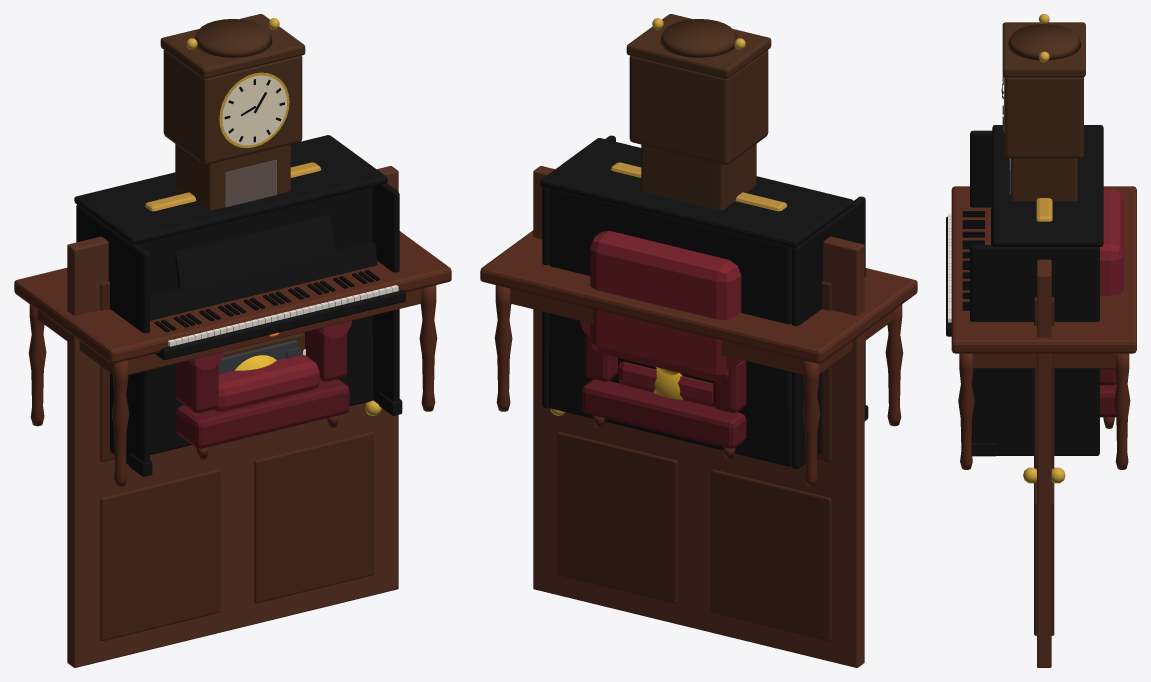
Rendered from props.glb.
3 views of the same model, side by side, from view 1: azimuth 30°, elevation 25°; view 2: azimuth 150°, elevation 25°; view 3: azimuth 270°, elevation 25° (orthographic). The views are drawn at different scales.
Parts seen in each view (by area): view 1: door, piano, clock, table, armchair, tv, portrait; view 2: door, piano, armchair, clock, table, portrait, duck; view 3: piano, table, clock, door, armchair, portrait.
Boxes of the visible parts, left/top/right/bottom form: door: left=67, top=166, right=398, bottom=667; piano: left=74, top=135, right=405, bottom=476; clock: left=160, top=14, right=305, bottom=357; table: left=14, top=231, right=451, bottom=486; armchair: left=175, top=320, right=351, bottom=459; tv: left=218, top=340, right=301, bottom=374; portrait: left=144, top=162, right=321, bottom=211; door: left=533, top=166, right=864, bottom=667; piano: left=540, top=135, right=868, bottom=468; armchair: left=580, top=230, right=746, bottom=459; clock: left=626, top=14, right=771, bottom=210; table: left=480, top=230, right=917, bottom=486; portrait: left=610, top=162, right=787, bottom=211; duck: left=653, top=367, right=683, bottom=399; piano: left=946, top=125, right=1103, bottom=456; table: left=951, top=186, right=1136, bottom=469; clock: left=1001, top=14, right=1085, bottom=201; door: left=1023, top=259, right=1065, bottom=667; armchair: left=1100, top=188, right=1123, bottom=428; portrait: left=1036, top=198, right=1052, bottom=221.
Bounding box in the file's own units: 2 × 3.34 × 1.03.
